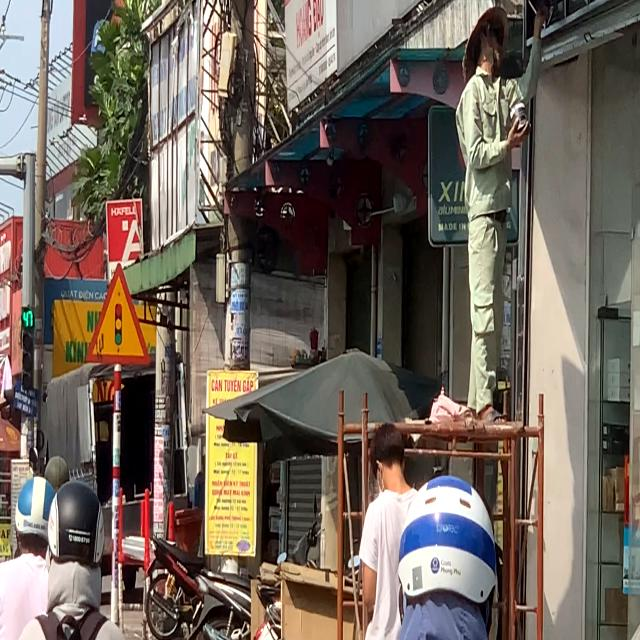W.209: (83, 256, 153, 369)
